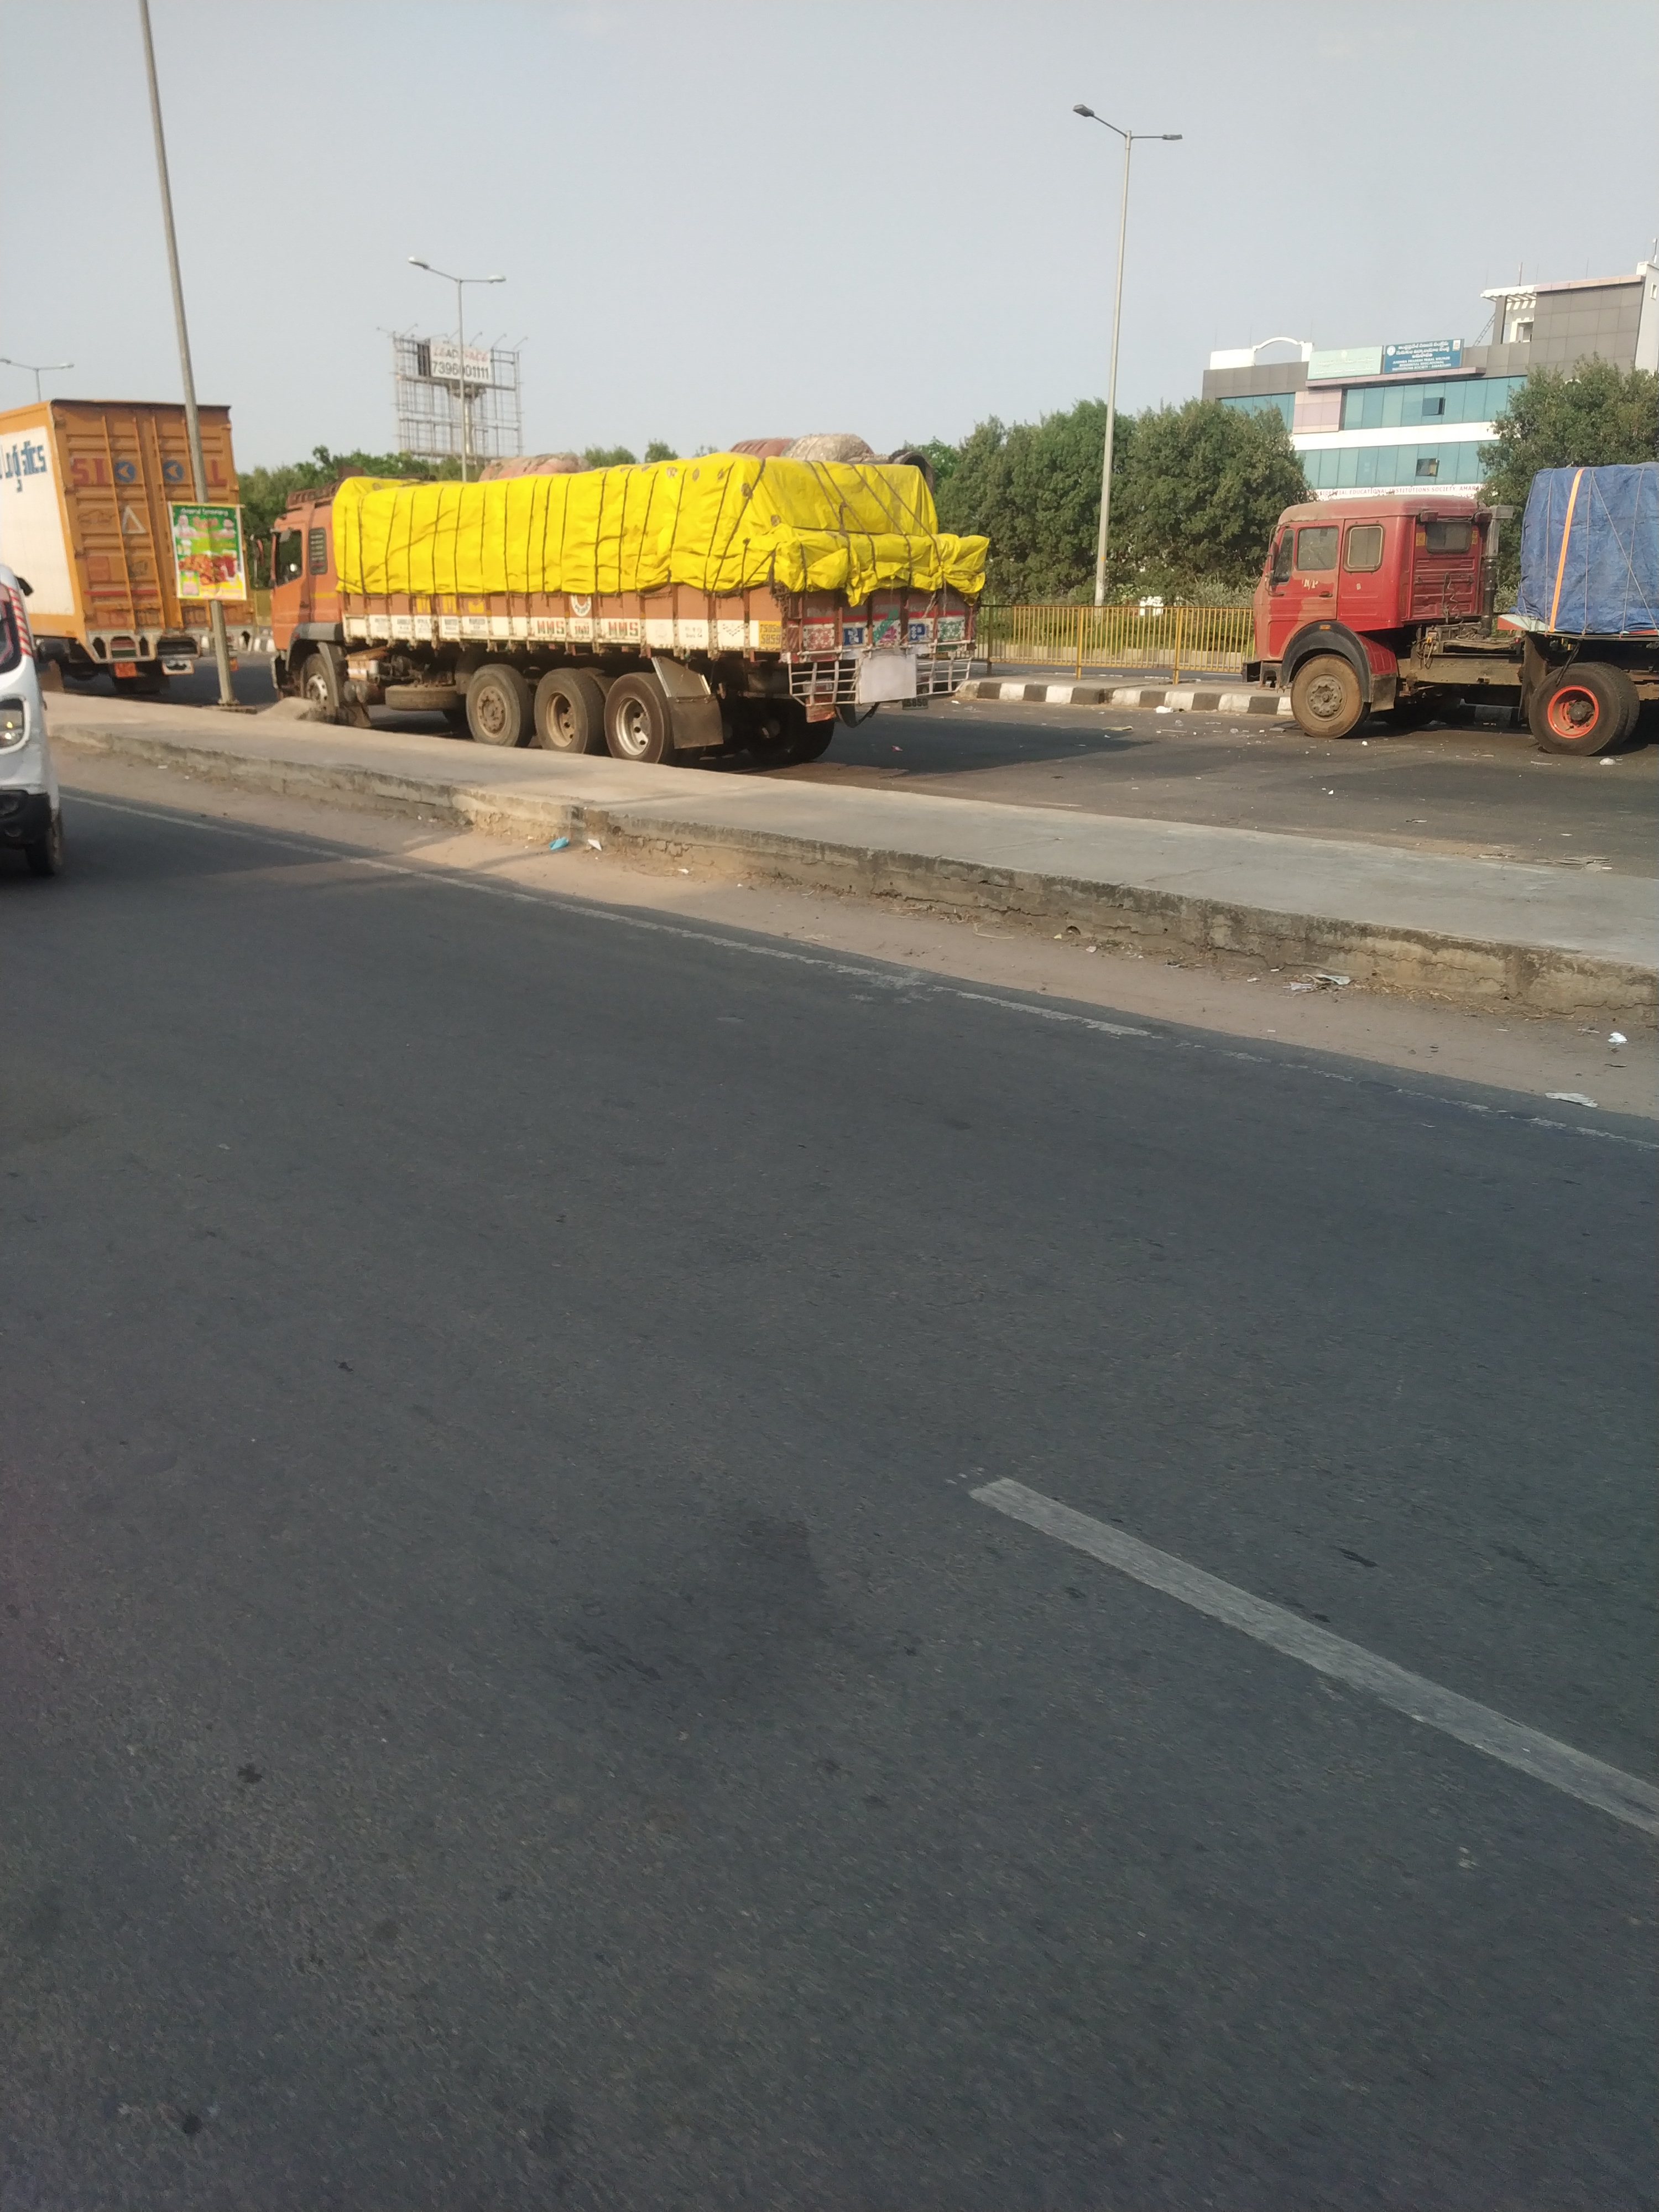truck: (249, 430, 992, 770), (1246, 460, 1659, 759), (0, 395, 258, 695)
